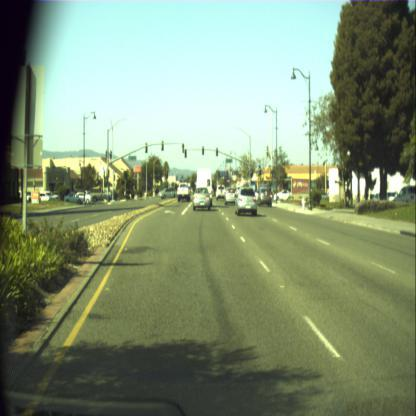Red: (258, 165, 262, 175), (216, 147, 219, 156), (250, 168, 252, 178), (202, 146, 204, 155)
off: (184, 148, 186, 158)
